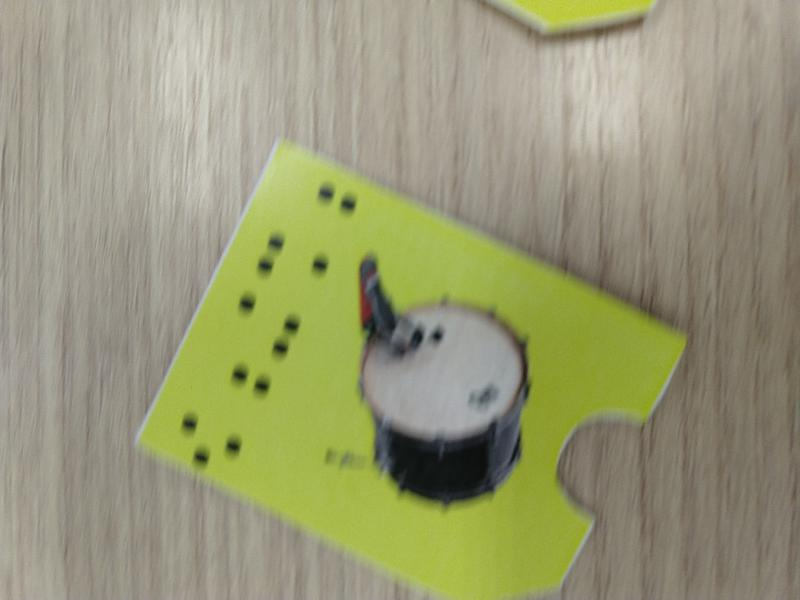bumbo: (133, 134, 689, 600)
